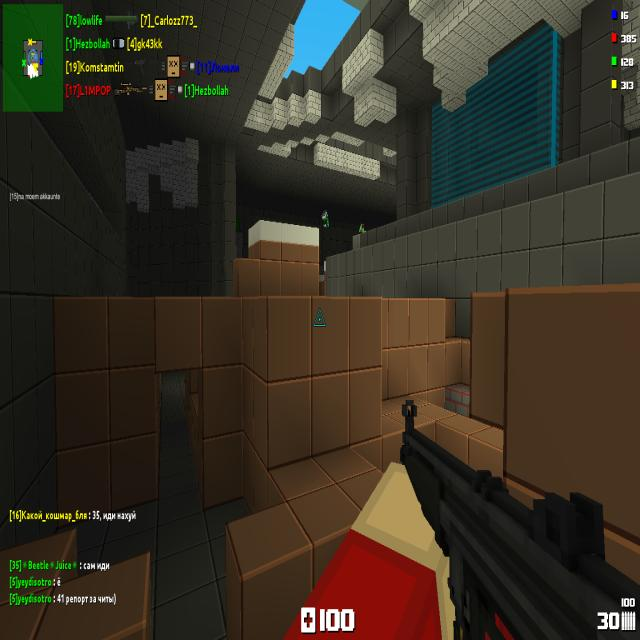enemy: (320, 209, 329, 227), (359, 223, 367, 232)
